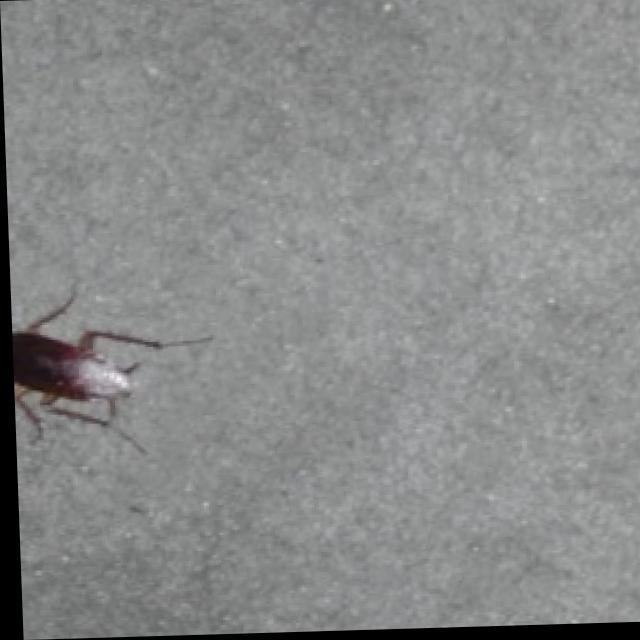cockroach: (10, 280, 215, 459)
